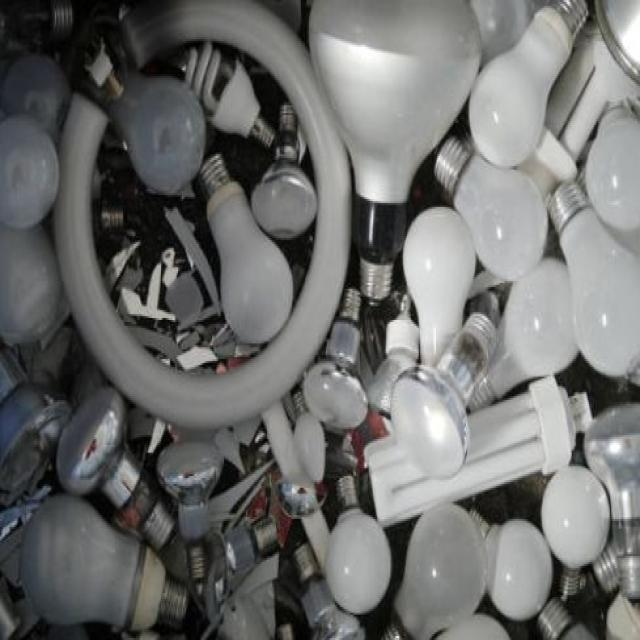electronic: (0, 0, 639, 638), (389, 363, 470, 478), (539, 462, 611, 570), (324, 507, 392, 615)
